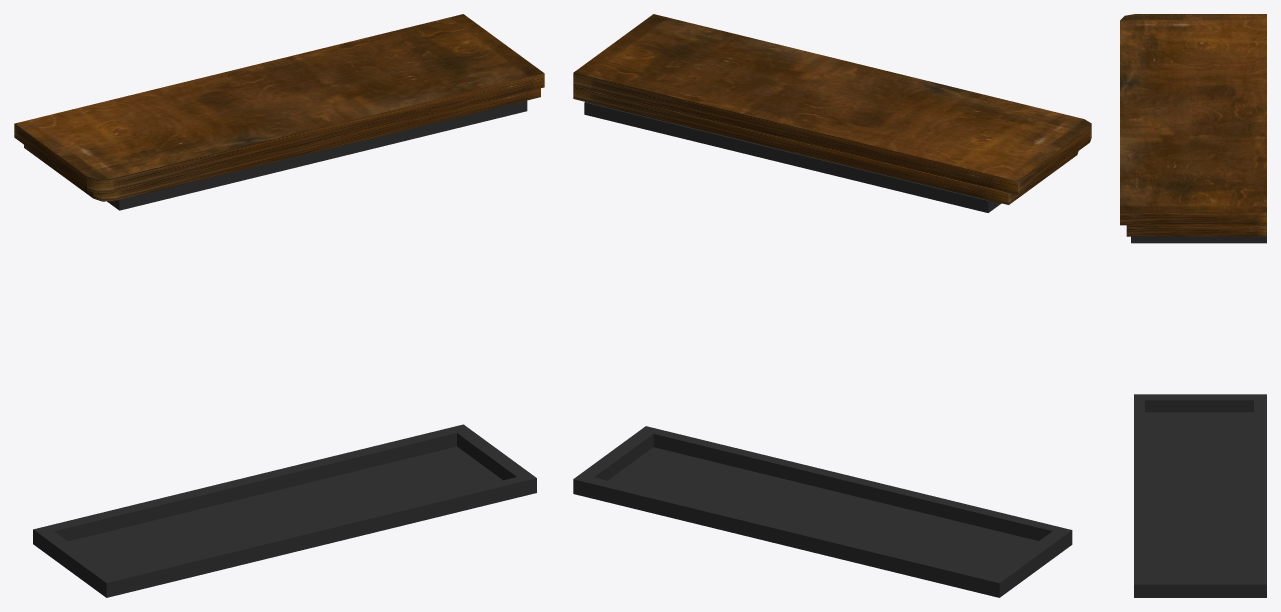
File: right_small_banquet.obj
3 renders of one model, left to right at view 1: azimuth 30°, elevation 25°; view 2: azimuth 150°, elevation 25°; view 3: azimuth 270°, elevation 25°, orthographic. The views are drawn at different scales.
Parts seen in each view (by area): view 1: small_banquet.001_Cube.001; view 2: small_banquet.001_Cube.001; view 3: small_banquet.001_Cube.001.
Part boxes in pixels (x1,y1,x2,y2): small_banquet.001_Cube.001: (14,14,544,597); small_banquet.001_Cube.001: (573,14,1091,597); small_banquet.001_Cube.001: (1120,14,1266,597).
Size of the model in its own units: 0.971 by 0.8782 by 0.3033.
2 materials, 1 textured.
